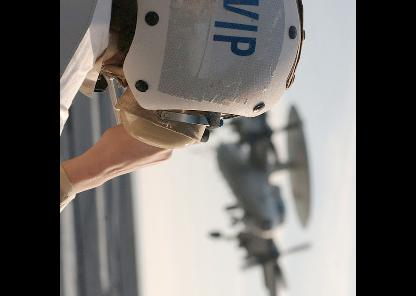C5: (189, 98, 318, 295)
